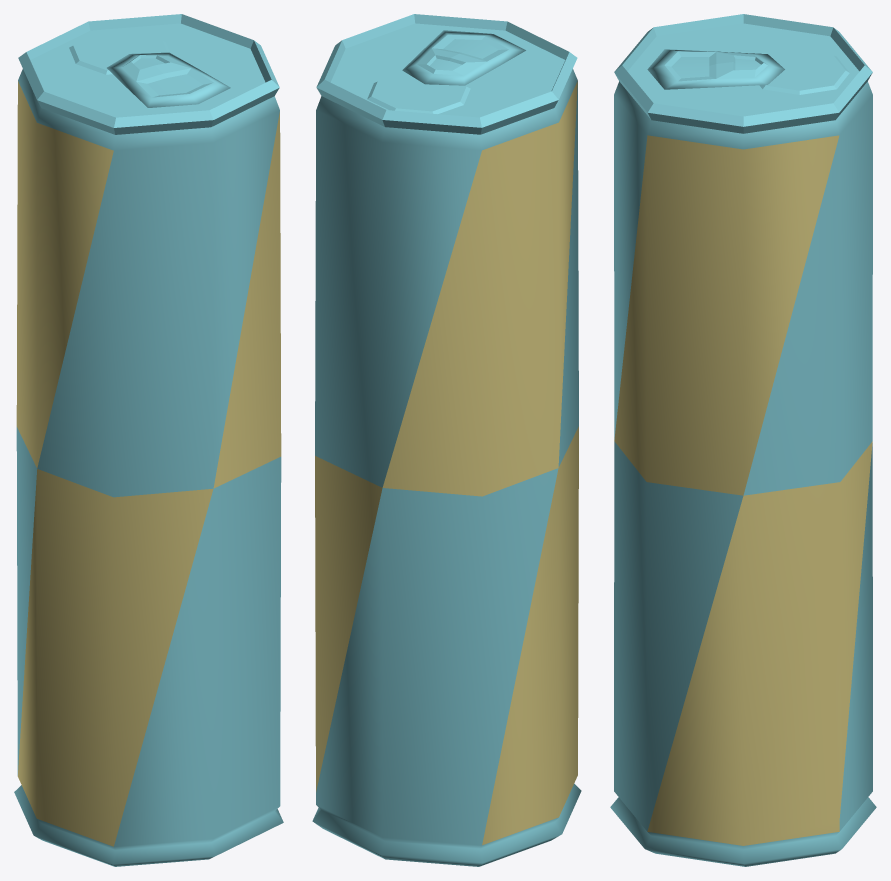
File: energy_can_v01.fbx
3 renders of one model, left to right at view 1: azimuth 30°, elevation 25°; view 2: azimuth 150°, elevation 25°; view 3: azimuth 270°, elevation 25°, orthographic.
Parts seen in each view (by area): view 1: pCube308; view 2: pCube308; view 3: pCube308.
Boxes of the visible parts, x1=… form: pCube308: x1=14, y1=14, x2=283, y2=866; pCube308: x1=312, y1=14, x2=581, y2=866; pCube308: x1=610, y1=14, x2=876, y2=866.
Size of the model in its own units: 8.63 by 26.94 by 8.63.
